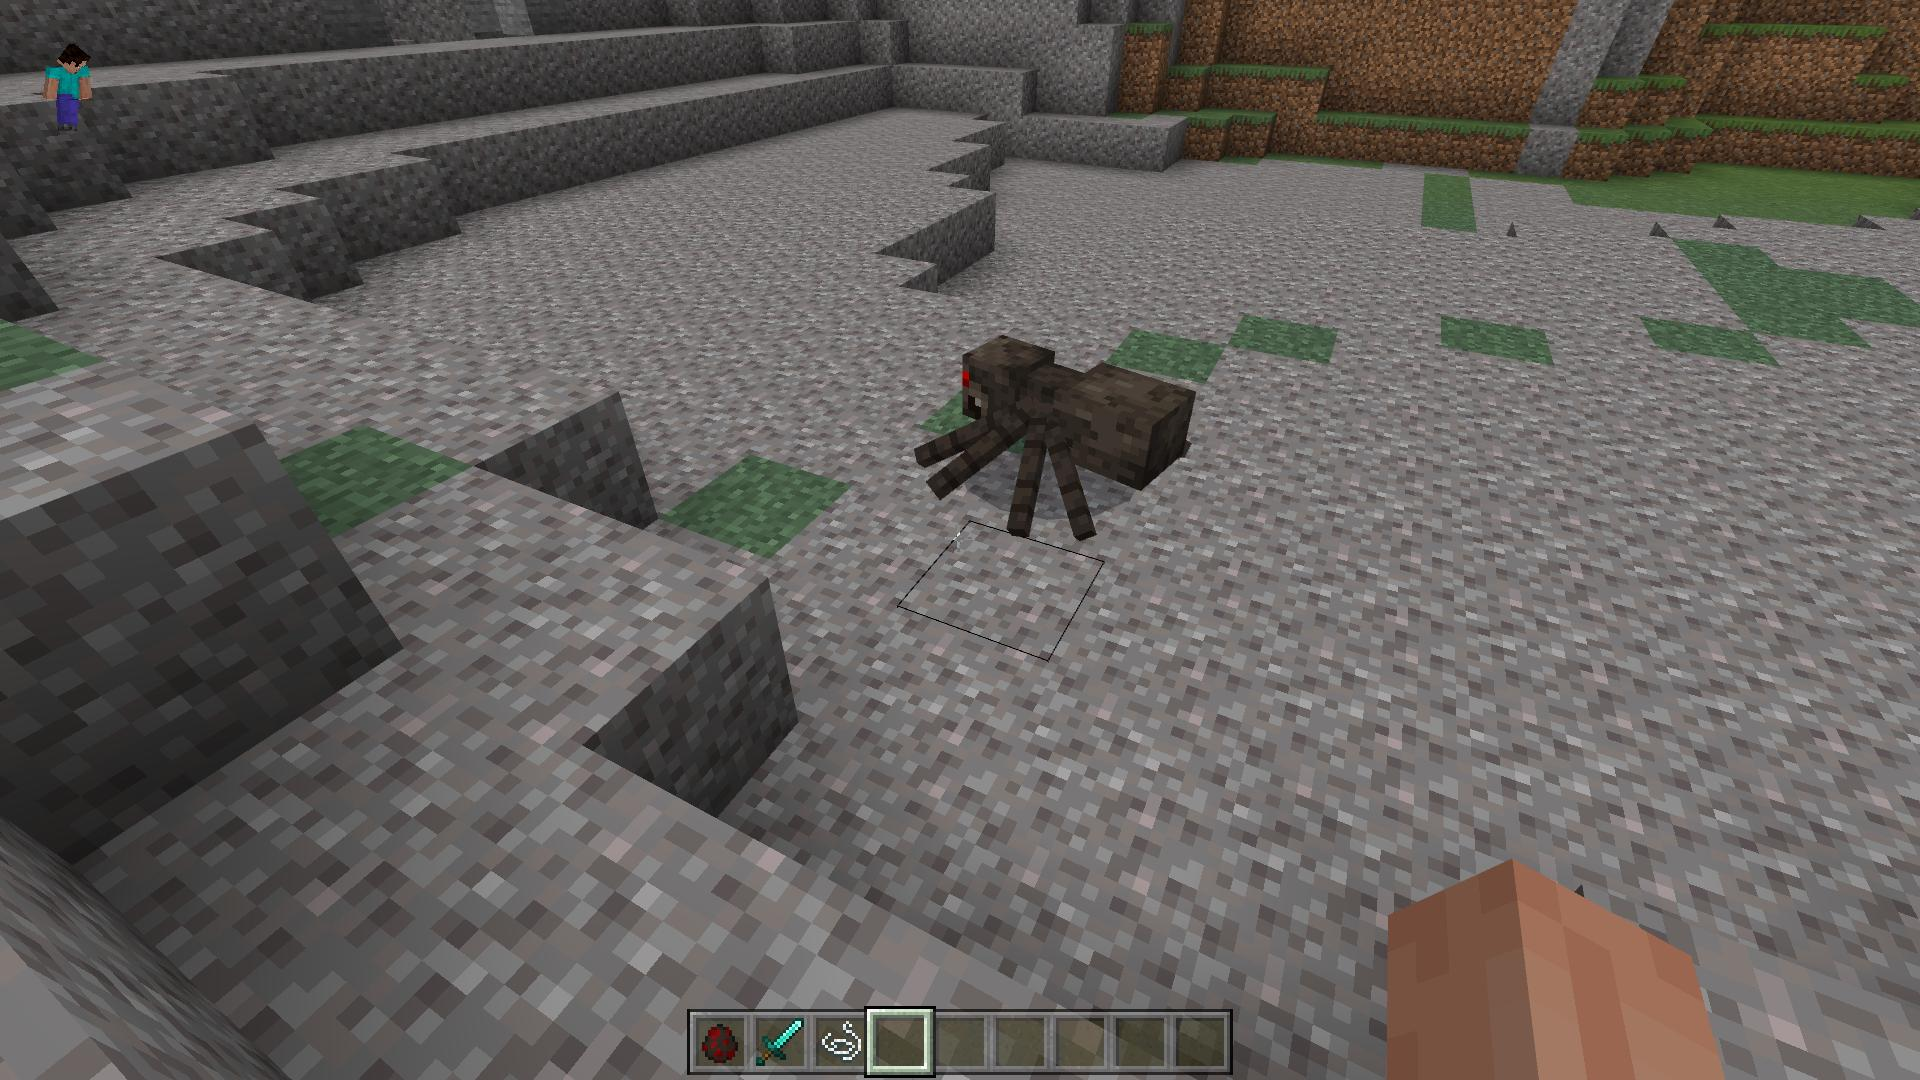spider: (914, 330, 1196, 542)
